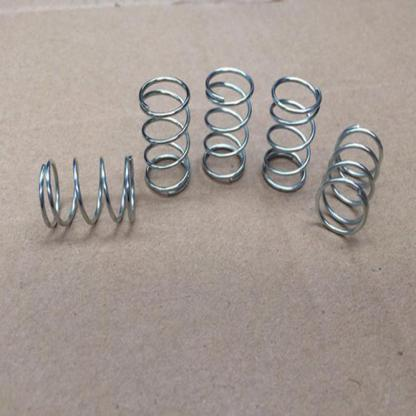FOD: (36, 150, 138, 234), (314, 124, 382, 240), (261, 75, 323, 192), (138, 74, 192, 198), (203, 69, 256, 184)
